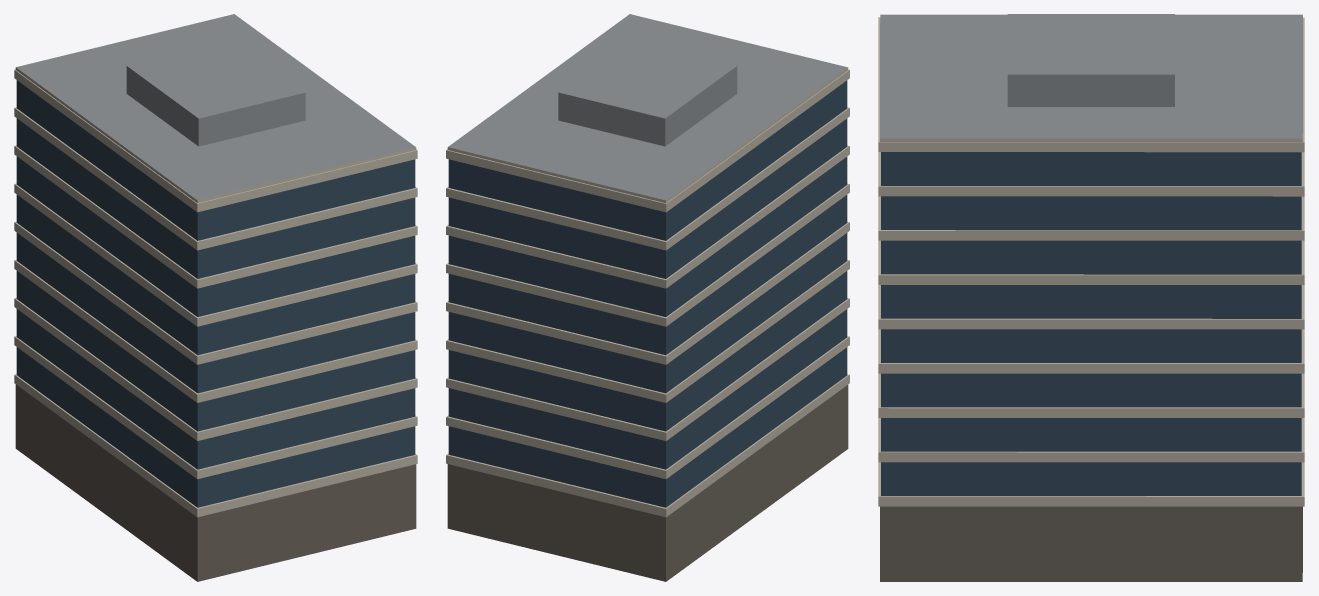
The model's file is priority_dispatch.glb.
3 views of the same model, side by side, from view 1: azimuth 30°, elevation 25°; view 2: azimuth 150°, elevation 25°; view 3: azimuth 270°, elevation 25° (orthographic). The views are drawn at different scales.
Parts seen in each view (by area): view 1: Priority_Dispatch; view 2: Priority_Dispatch; view 3: Priority_Dispatch.
Boxes of the visible parts, box(x1,y1,x2,y2) form: Priority_Dispatch: box(14, 14, 417, 581); Priority_Dispatch: box(446, 14, 849, 581); Priority_Dispatch: box(878, 14, 1304, 581).
Size of the model in its own units: 24.74 by 43.9 by 35.66.
